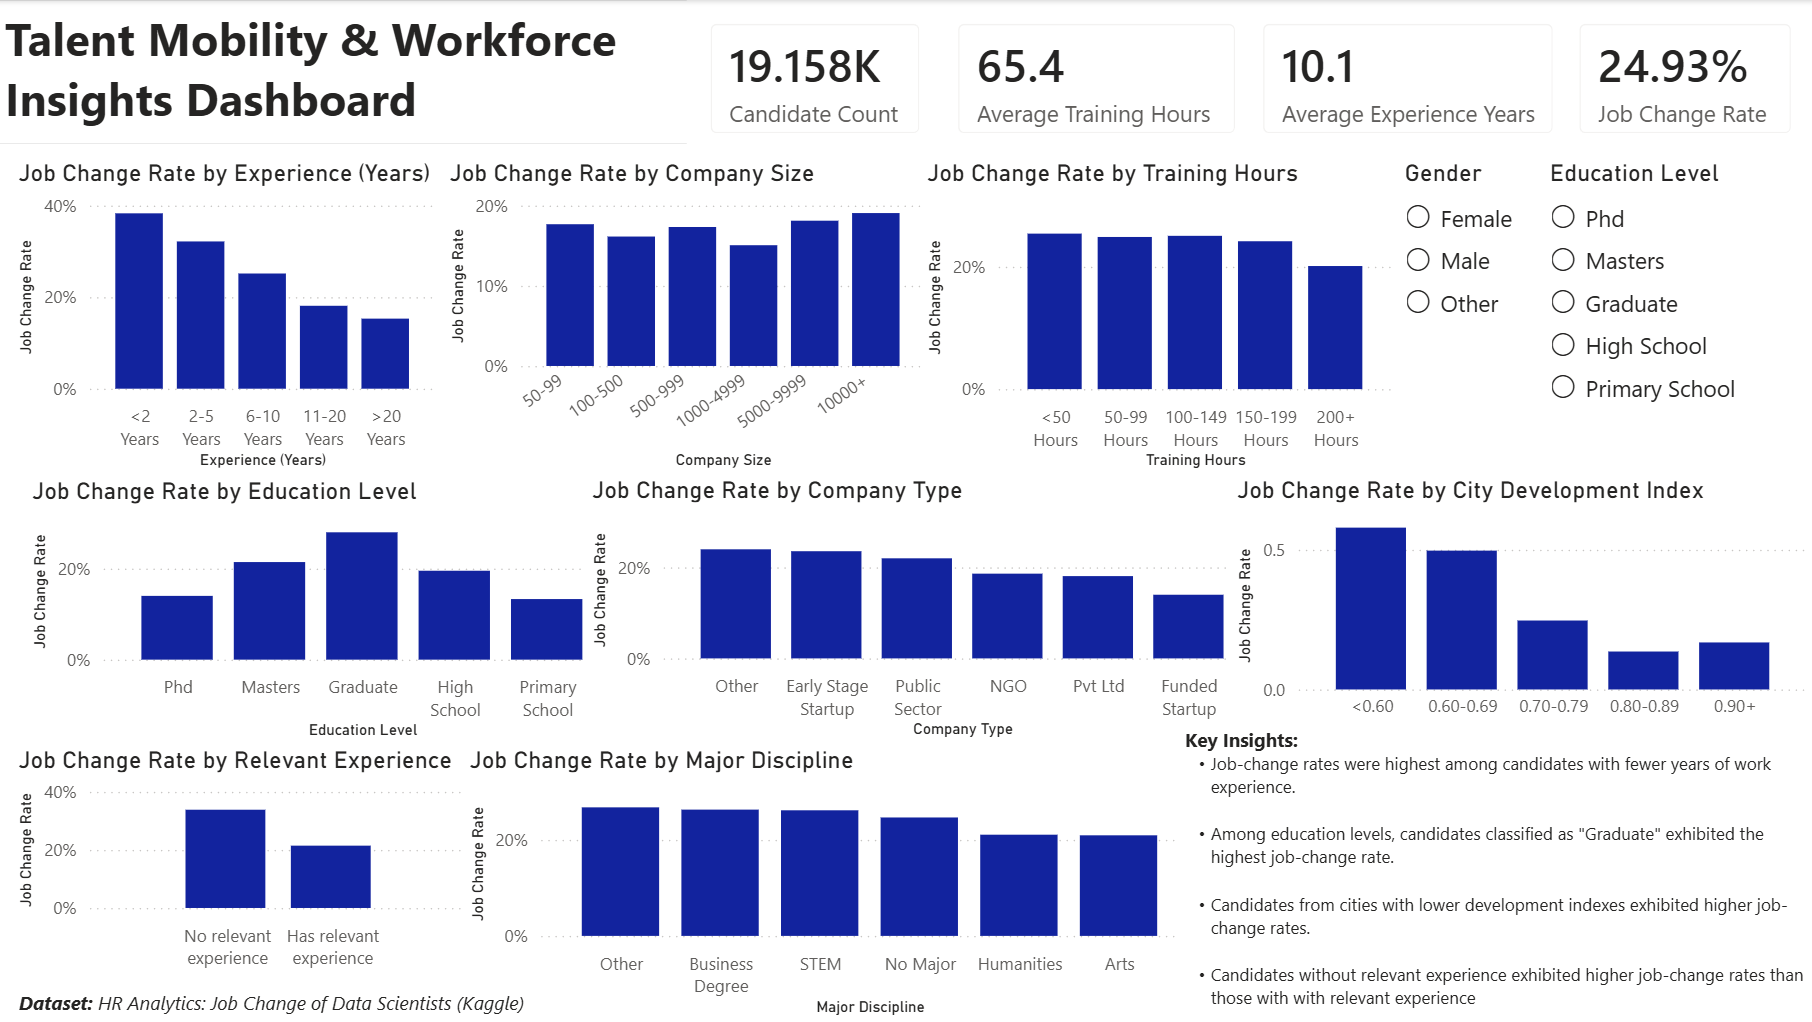

This screenshot's page, from the dashboard's own definition file:
{"tool":"powerbi","page":{"name":"Page 1","canvas":[1280,720],"ordinal":0},"visuals":[{"type":"textbox","box":[0,0,537.1,101.3],"z":0},{"type":"cardVisual","fields":{"Data":["CountNonNull(in.enrollee_id)"]},"box":[485.5,0,181.6,111.6],"z":1000},{"type":"cardVisual","fields":{"Data":["Avg(DataValues.Experience Years)"]},"box":[874.4,0,238.3,111.6],"z":2000},{"type":"cardVisual","fields":{"Data":["Avg(in.training_hours)"]},"box":[659.1,0,229.5,111.6],"z":3000},{"type":"cardVisual","fields":{"Data":["DataValues.Job Change Rate"]},"box":[1096.8,0,183.4,111.6],"z":4000},{"type":"clusteredColumnChart","fields":{"Category":["DataValues.Experience Group"],"Y":["DataValues.Job Change Rate"]},"box":[9.8,111.5,303.5,223],"z":5000},{"type":"clusteredColumnChart","fields":{"Y":["DataValues.Job Change Rate"],"Category":["DataValues.education_level - ForSort"]},"box":[19.4,335.5,425.3,190.2],"z":6000},{"type":"clusteredColumnChart","fields":{"Y":["DataValues.Job Change Rate"],"Category":["DataValues.company_size ForSort"]},"box":[313.3,111.5,345,223],"z":7000},{"type":"clusteredColumnChart","fields":{"Y":["DataValues.Job Change Rate"],"Category":["DataValues.company_type"]},"box":[413.8,334.6,481.6,190.2],"z":8000},{"type":"clusteredColumnChart","fields":{"Y":["DataValues.Job Change Rate"],"Category":["DataValues.Training Hours Group"]},"box":[649.4,111.6,337.5,223.3],"z":9000},{"type":"clusteredColumnChart","fields":{"Category":["DataValues.relevent_experience"],"Y":["DataValues.Job Change Rate"]},"box":[9.8,524.9,327.9,166],"z":10000},{"type":"clusteredColumnChart","fields":{"Category":["DataValues.major_discipline"],"Y":["DataValues.Job Change Rate"]},"box":[327.5,524.8,523.9,195.5],"z":11000},{"type":"clusteredColumnChart","fields":{"Y":["DataValues.Job Change Rate"],"Category":["DataValues.City Dev Index Group"]},"box":[868.1,334.6,412.1,191.1],"z":12000},{"type":"textbox","box":[831.1,507.1,449,213.1],"z":12001},{"type":"listSlicer","fields":{"Values":["DataValues.gender"]},"box":[986,111.6,101.9,123.1],"z":12002},{"type":"listSlicer","fields":{"Values":["DataValues.education_level - ForSort"]},"box":[1087.9,111.6,182.5,199.3],"z":12003},{"type":"textbox","box":[9.7,692,383.9,28.2],"z":12004}]}

Visuals, with their boxes in screenshot pixels (x1, y1, x2, y2), scaled from the page's 1280x720 canvas onto the 1812x1022 screenshot:
textbox: rect(0, 0, 760, 144)
cardVisual - CountNonNull(in.enrollee_id): rect(687, 0, 944, 158)
cardVisual - Avg(DataValues.Experience Years): rect(1238, 0, 1575, 158)
cardVisual - Avg(in.training_hours): rect(933, 0, 1258, 158)
cardVisual - DataValues.Job Change Rate: rect(1553, 0, 1811, 158)
clusteredColumnChart - DataValues.Experience Group x DataValues.Job Change Rate: rect(14, 158, 444, 475)
clusteredColumnChart - DataValues.Job Change Rate x DataValues.education_level - ForSort: rect(27, 476, 630, 746)
clusteredColumnChart - DataValues.Job Change Rate x DataValues.company_size ForSort: rect(444, 158, 932, 475)
clusteredColumnChart - DataValues.Job Change Rate x DataValues.company_type: rect(586, 475, 1268, 745)
clusteredColumnChart - DataValues.Job Change Rate x DataValues.Training Hours Group: rect(919, 158, 1397, 475)
clusteredColumnChart - DataValues.relevent_experience x DataValues.Job Change Rate: rect(14, 745, 478, 981)
clusteredColumnChart - DataValues.major_discipline x DataValues.Job Change Rate: rect(464, 745, 1205, 1021)
clusteredColumnChart - DataValues.Job Change Rate x DataValues.City Dev Index Group: rect(1229, 475, 1811, 746)
textbox: rect(1177, 720, 1811, 1021)
listSlicer - DataValues.gender: rect(1396, 158, 1540, 333)
listSlicer - DataValues.education_level - ForSort: rect(1540, 158, 1798, 441)
textbox: rect(14, 982, 557, 1021)
